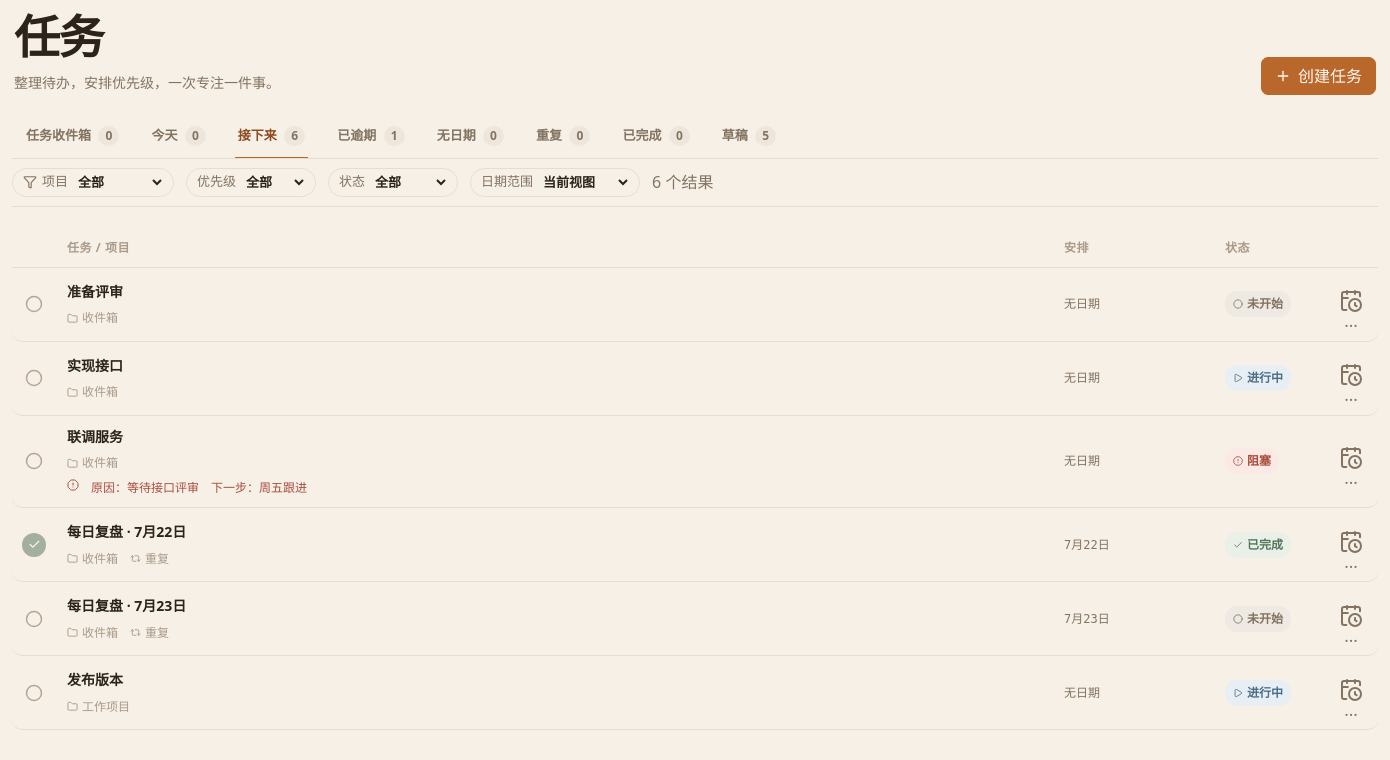
Test: Task occurrence workspace › shows an error when completing an occurrence fails
Step 1. Click the text "准备评审" → coordinates (95, 292), box [67, 282, 123, 301]
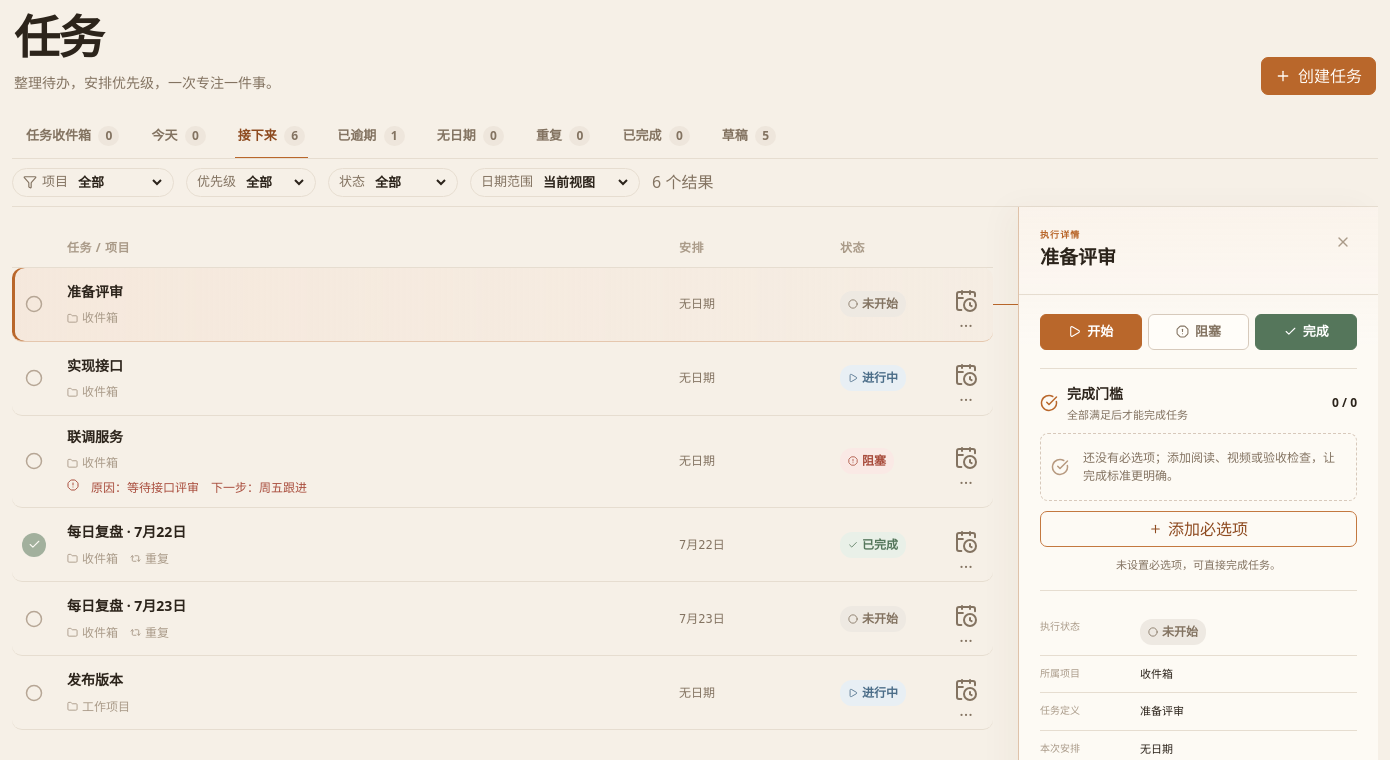
Step 2. Click the button "完成" → coordinates (1306, 332), box [1255, 314, 1357, 350]
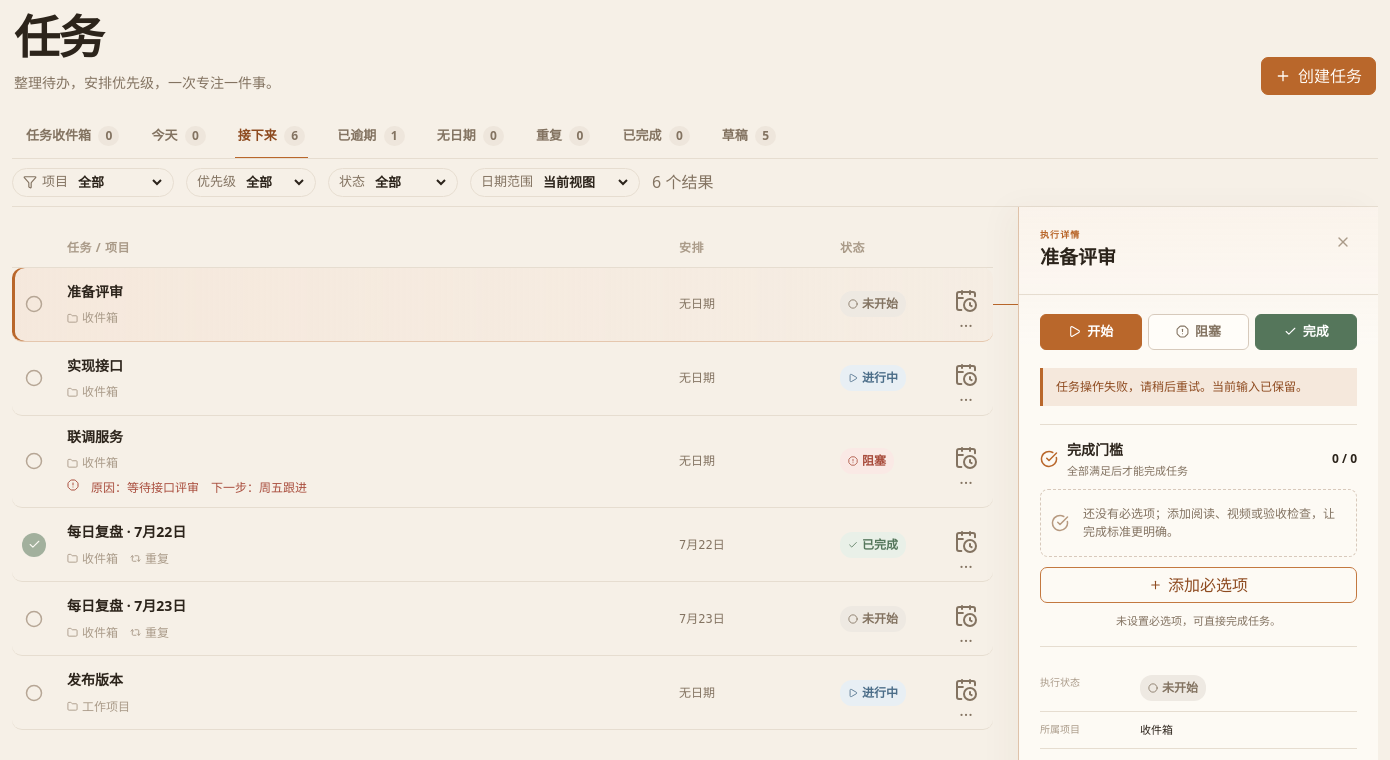
Now the message shows "任务操作失败，请稍后重试。", box [1056, 378, 1308, 395]
